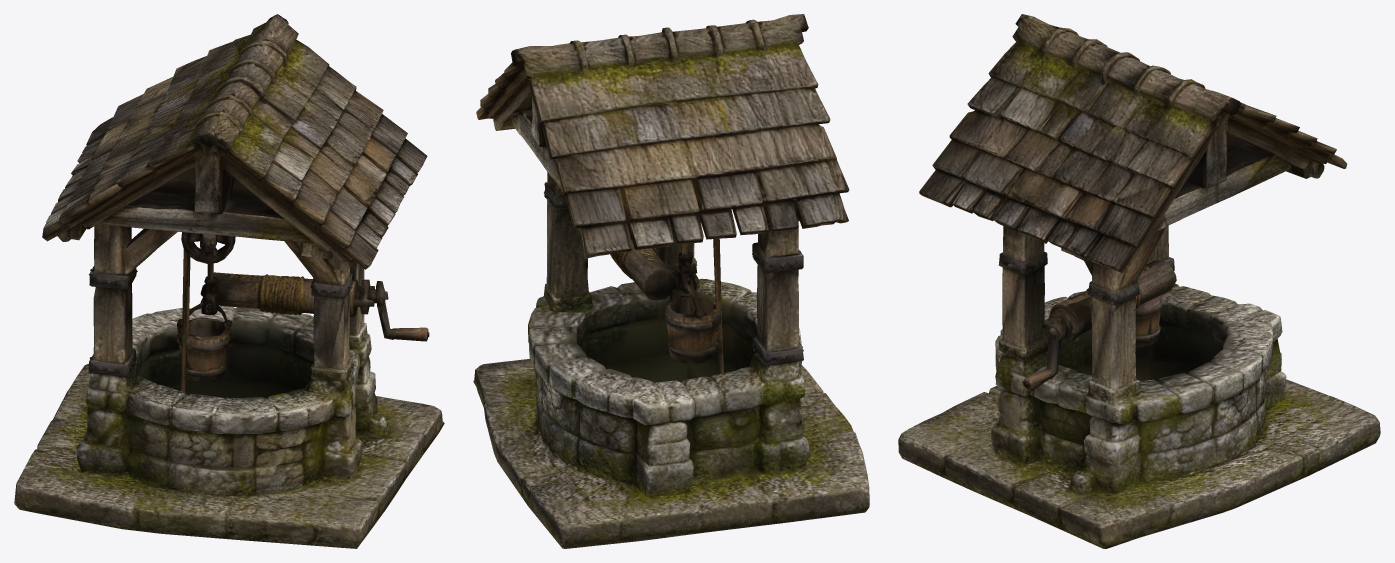
Rendered from well.glb.
3 views of the same model, side by side, from view 1: azimuth 30°, elevation 25°; view 2: azimuth 150°, elevation 25°; view 3: azimuth 270°, elevation 25° (orthographic). The views are drawn at different scales.
Parts seen in each view (by area): view 1: node_0; view 2: node_0; view 3: node_0.
Part boxes in pixels (box(x1,y1,x2,y2)): node_0: box(14, 14, 444, 548); node_0: box(473, 14, 869, 548); node_0: box(898, 14, 1380, 548).
Bounding box in the file's own units: 0.8717 × 0.818 × 0.8871.
1 material, 1 textured.
